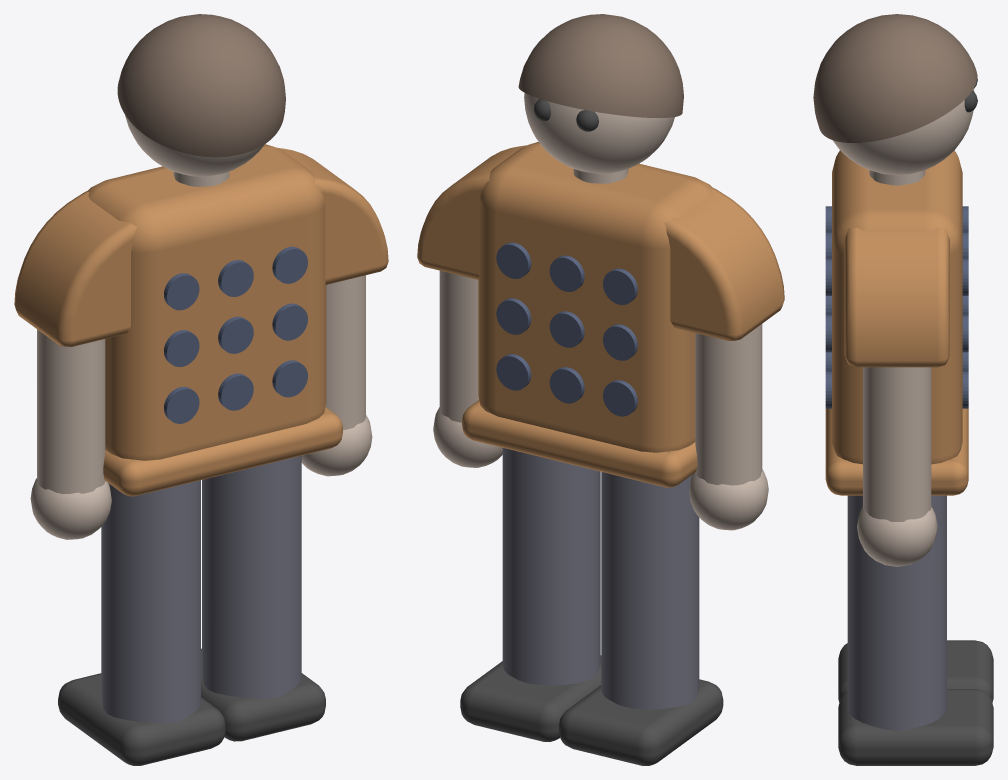
File: person_b.glb
3 renders of one model, left to right at view 1: azimuth 30°, elevation 25°; view 2: azimuth 150°, elevation 25°; view 3: azimuth 270°, elevation 25°, orthographic.
Parts seen in each view (by area): view 1: geometry_0; view 2: geometry_0; view 3: geometry_0.
Part boxes in pixels (x1,y1,x2,y2): geometry_0: (14,14,388,765); geometry_0: (417,14,784,765); geometry_0: (813,14,993,765).
Size of the model in its own units: 1.22 by 2.49 by 0.58.
